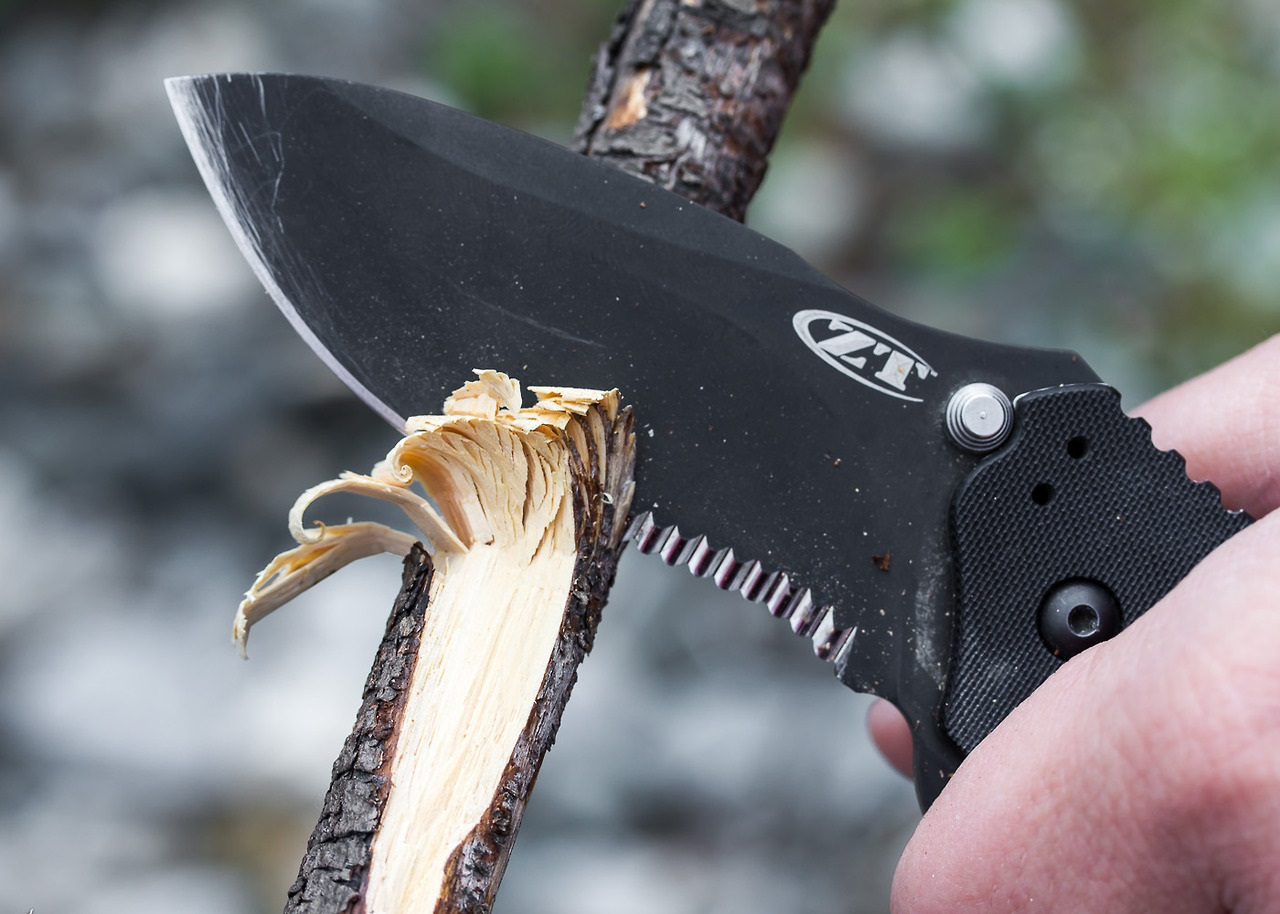knife: (134, 46, 1280, 830)
